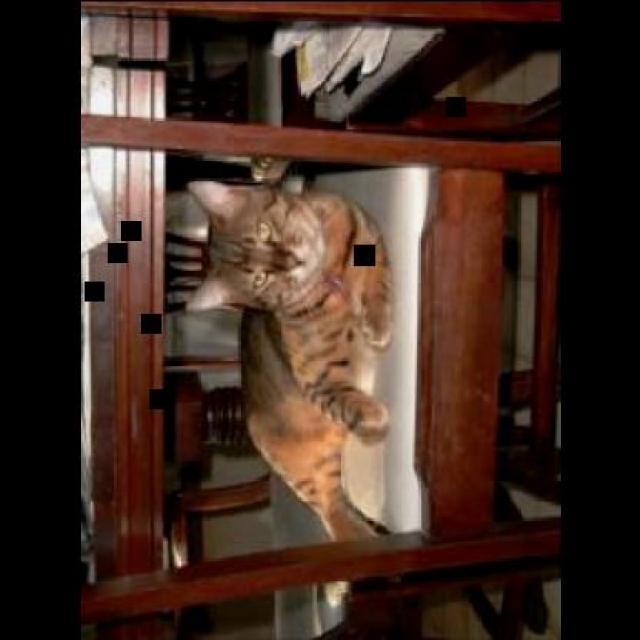unauthorized: (183, 172, 395, 543)
